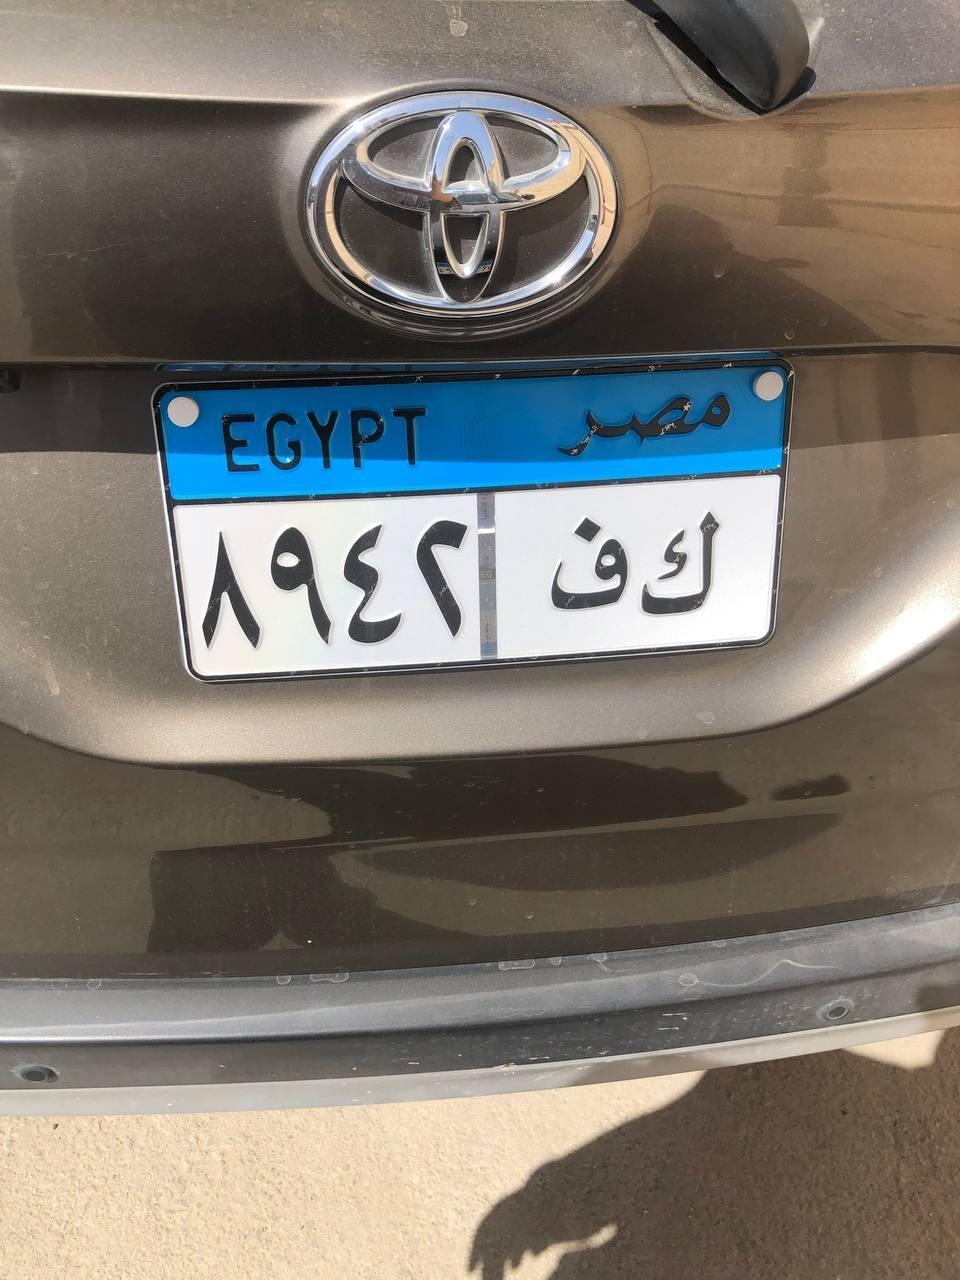2: (408, 528, 480, 648)
8: (188, 528, 275, 668)
9: (266, 526, 344, 649), (336, 520, 392, 649)
F: (546, 503, 632, 614)
Kaaf: (641, 508, 733, 618)
License Plate: (139, 361, 833, 685)
